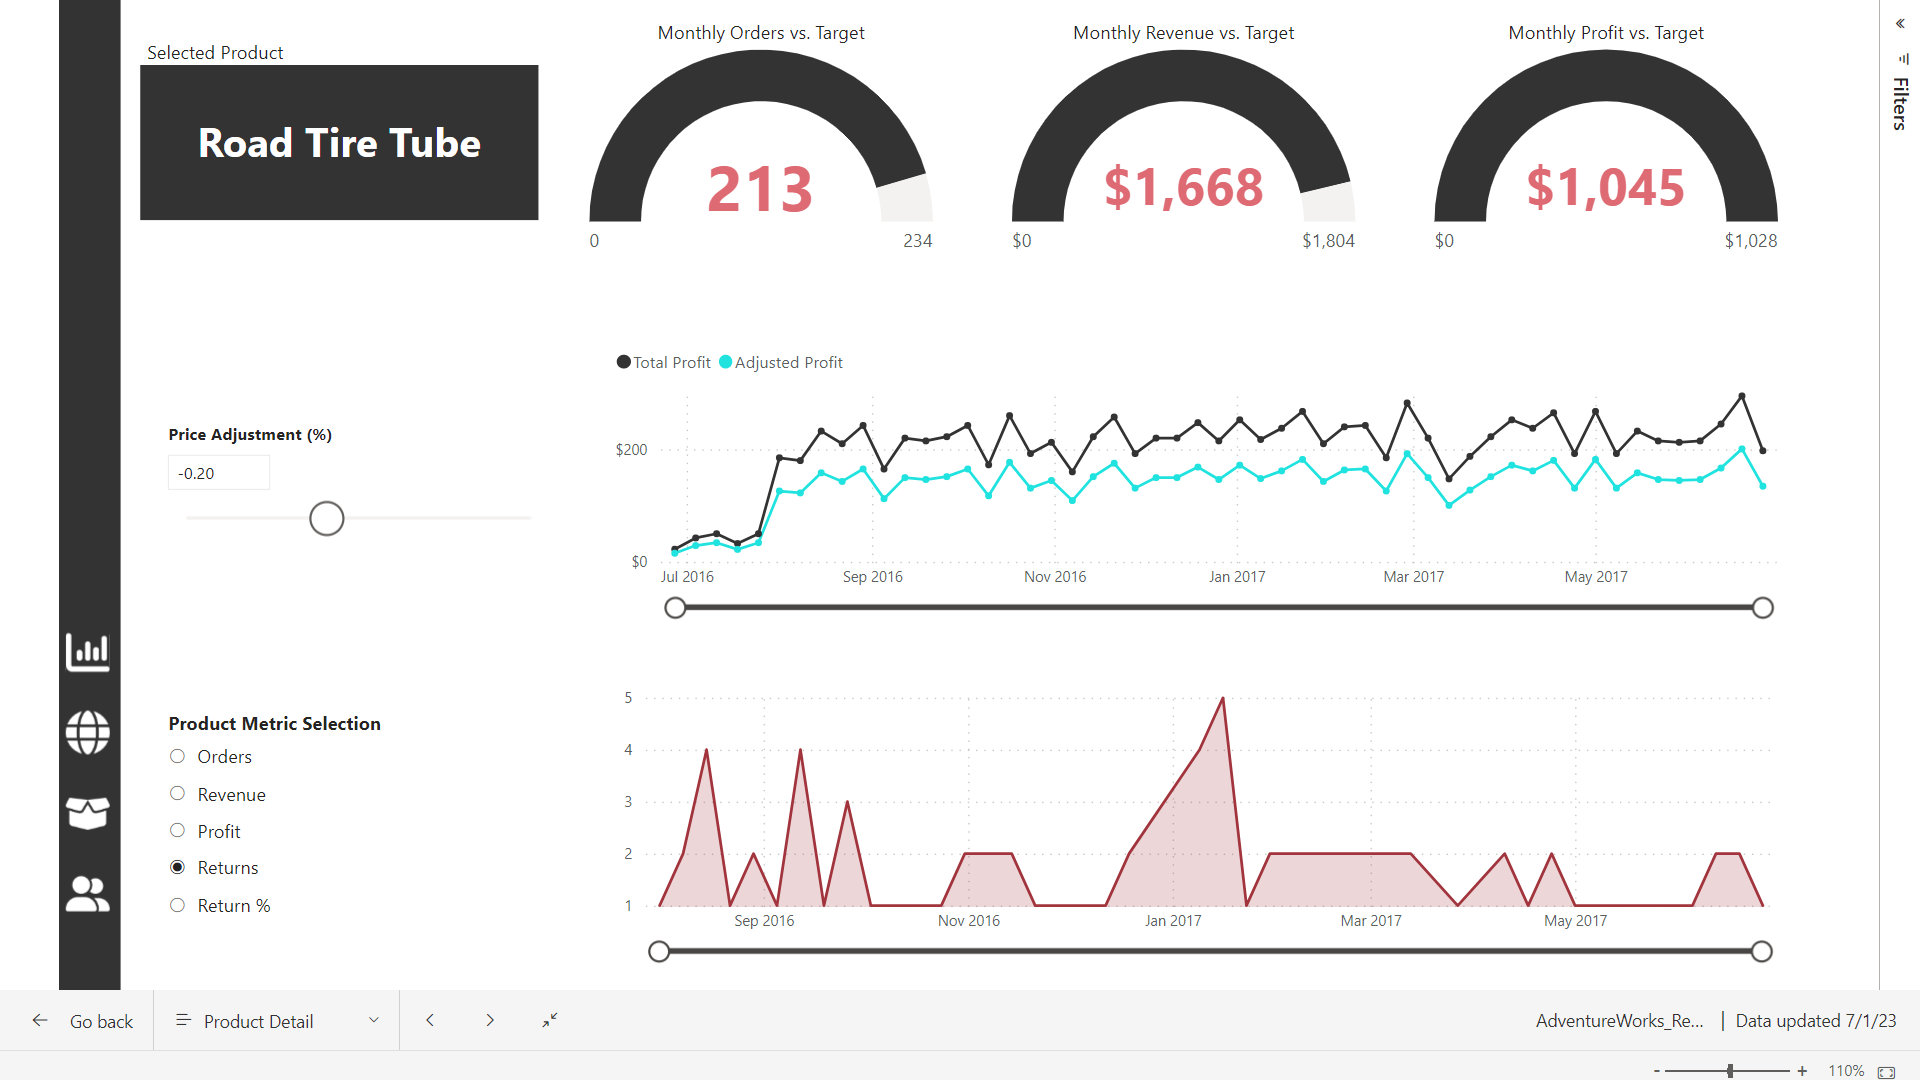

Layout of this report page (visuals, bound fields, positions):
{"tool":"powerbi","page":{"name":"Product Detail","canvas":[1280,720],"ordinal":2},"visuals":[{"type":"shape","box":[0,0,45,720],"z":0},{"type":"actionButton","box":[1.1,454.3,44.3,40],"z":0,"group":"g1"},{"type":"gauge","title":"Monthly Orders vs. Target","fields":{"Y":["AW_Sales.Total Orders"],"MaxValue":["AW_Sales.Order Target"]},"box":[365.3,13.5,290.5,180],"z":1000},{"type":"actionButton","box":[1.1,512.9,44.3,40],"z":1000,"group":"g1"},{"type":"gauge","title":"Monthly Revenue vs. Target","fields":{"Y":["AW_Sales.Total Revenue"],"MaxValue":["AW_Sales.Revenue Target"]},"box":[672.5,13.5,290.5,180],"z":2000},{"type":"actionButton","box":[1.1,630,44.3,40],"z":2000,"group":"g1"},{"type":"gauge","title":"Monthly Profit vs. Target","fields":{"Y":["AW_Sales.Total Profit"],"MaxValue":["AW_Sales.Previous Month Profit"]},"box":[979.7,13.5,290.5,180],"z":3000},{"type":"actionButton","box":[1.1,571.4,44.3,40],"z":3000,"group":"g1"},{"type":"lineChart","title":"Weekly Profit","fields":{"Category":["AW_Calender_Lookup.Year","AW_Calender_Lookup.Start of Month","AW_Calender_Lookup.Start of Week","AW_Calender_Lookup.Date"],"Y":["AW_Sales.Total Profit","AW_Sales.Adjusted Profit"]},"box":[399.7,243.3,867.9,209],"z":4000},{"type":"areaChart","title":"Weekly Returns","fields":{"Y":["AW_Returns.Total Returns"],"Category":["AW_Calender_Lookup.Start of Week.Variation.Date Hierarchy.Year"]},"box":[399.7,493.9,867.9,209],"z":5000},{"type":"card","fields":{"Values":["Min(AW_Product_Lookup.ProductName)"]},"box":[58.7,47.7,289.7,112.5],"z":6000},{"type":"textbox","box":[58.7,23.2,119.8,28.1],"z":7000},{"type":"group","id":"g1","title":"Nevigation Buttons","box":[1.1,454.3,44.3,215.7],"z":8000},{"type":"slicer","fields":{"Values":["Price Adjustment (%).Price Adjustment (%)"]},"box":[58.7,183.4,289.7,116.1],"z":9000},{"type":"slicer","fields":{"Values":["Metric Selection.Metric Selection"]},"box":[58.7,309.9,289.7,174.8],"z":10000},{"type":"textbox","box":[58.7,495.1,289.7,207.8],"z":11000}]}

Visuals, with their boxes on the page's 1280x720 design canvas (x1, y1, x2, y2). These are canvas units, not pixel positions in the 1920x1080 screenshot, which may show the page scaled, cropped or inside an application window:
shape: x1=0, y1=0, x2=45, y2=720
actionButton: x1=1, y1=454, x2=45, y2=494
"Monthly Orders vs. Target" gauge: x1=365, y1=14, x2=656, y2=194
actionButton: x1=1, y1=513, x2=45, y2=553
"Monthly Revenue vs. Target" gauge: x1=672, y1=14, x2=963, y2=194
actionButton: x1=1, y1=630, x2=45, y2=670
"Monthly Profit vs. Target" gauge: x1=980, y1=14, x2=1270, y2=194
actionButton: x1=1, y1=571, x2=45, y2=611
"Weekly Profit" lineChart: x1=400, y1=243, x2=1268, y2=452
"Weekly Returns" areaChart: x1=400, y1=494, x2=1268, y2=703
card - Min(AW_Product_Lookup.ProductName): x1=59, y1=48, x2=348, y2=160
textbox: x1=59, y1=23, x2=178, y2=51
"Nevigation Buttons" group: x1=1, y1=454, x2=45, y2=670
slicer - Price Adjustment (%).Price Adjustment (%): x1=59, y1=183, x2=348, y2=300
slicer - Metric Selection.Metric Selection: x1=59, y1=310, x2=348, y2=485
textbox: x1=59, y1=495, x2=348, y2=703
